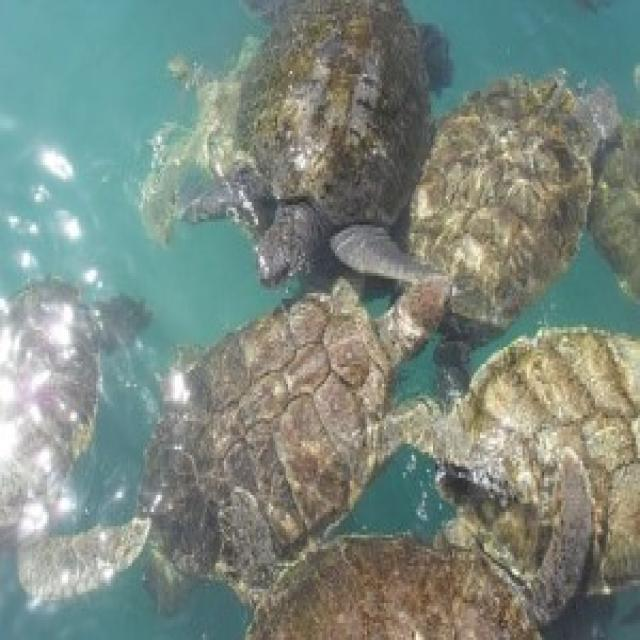Sea turtle: (150, 0, 430, 271), (168, 293, 446, 550), (0, 286, 139, 627), (449, 328, 640, 576), (402, 53, 610, 275), (235, 556, 556, 640)
